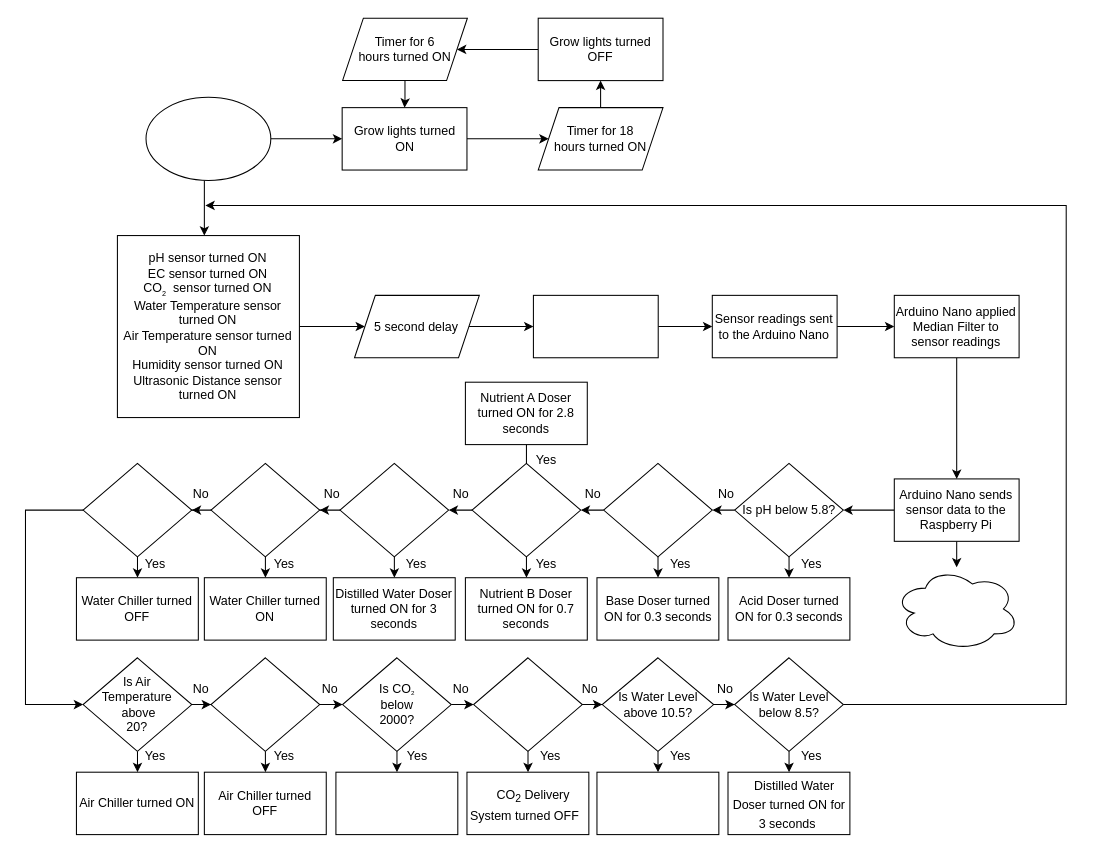
Some shapes in this 1093 by 853 pixel diagram are drawn without their labels. The centre of each missing label's shape, as x and y in pixels:
All sensors start taking readings at regular intervals: (595,326)
CO 2 Delivery System turned ON: (396,803)
Distilled Water Doser turned OFF: (657,803)
Is Air Temperature below 16?: (265,704)
Is CO 2 above 2000?: (527,704)
Is EC above 1250?: (394,509)
Is EC below 1000?: (526,509)
Is pH above 6.5?: (657,509)
Is Water Temperature above 18?: (265,509)
Is Water Temperature below 16?: (137,509)
Start: (208,138)
ThingSpeak Channel: (956,608)
